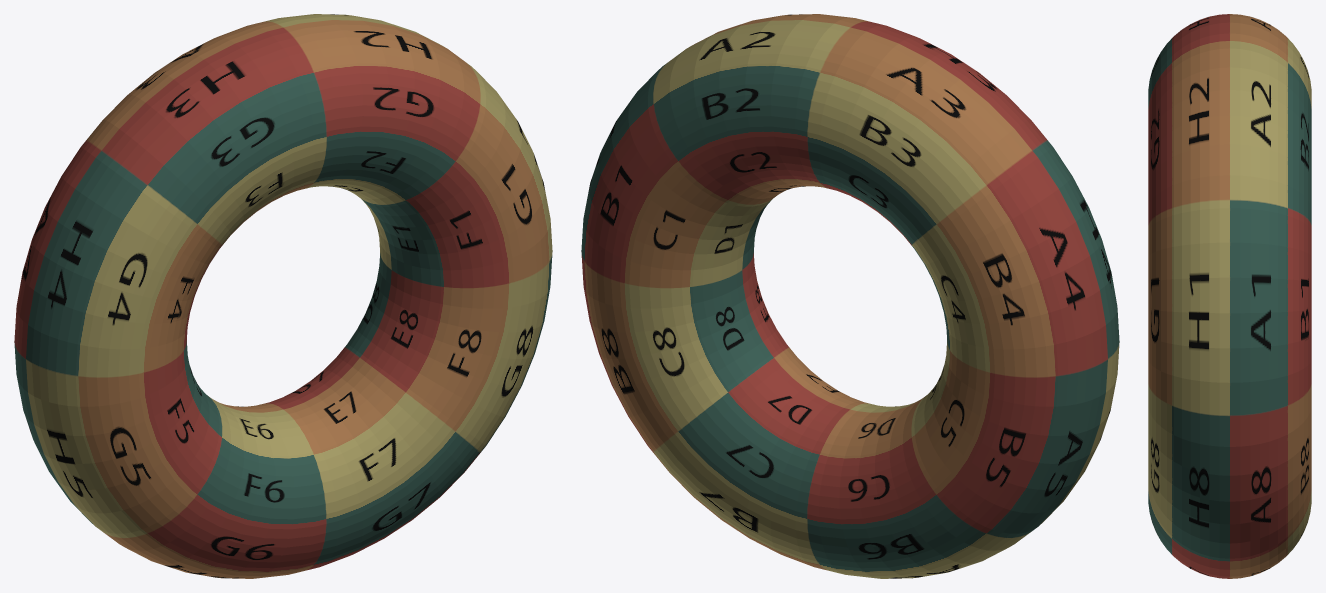
The model's file is texture_torus_R9_r17.glb.
The picture shows the model from 3 angles, left to right: view 1: azimuth 30°, elevation 25°; view 2: azimuth 150°, elevation 25°; view 3: azimuth 270°, elevation 25°; orthographic projection. The views are drawn at different scales.
Visible parts, largest first — view 1: world; view 2: world; view 3: world.
Boxes of the visible parts, x1,y1,x2,y2 form: world: [14, 14, 552, 578]; world: [581, 14, 1119, 578]; world: [1148, 14, 1311, 578].
Size of the model in its own units: 22.53 by 22.49 by 6.52.
Materials: 1 (1 with a texture image).
